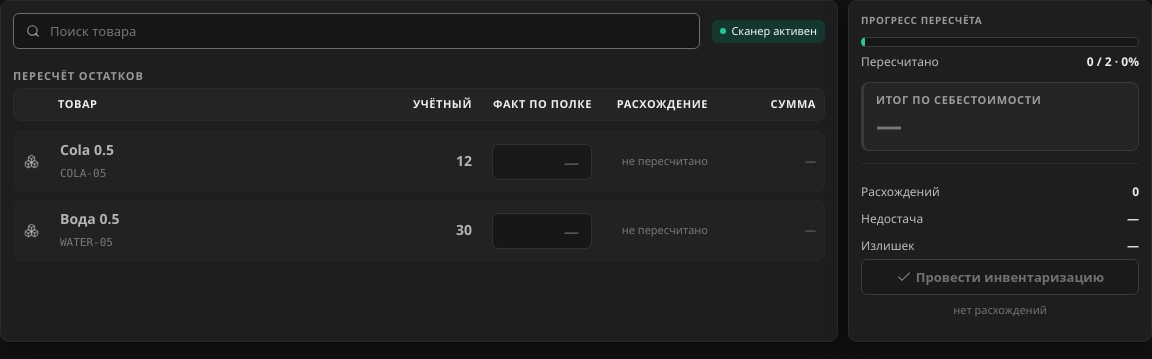
Test: InventoryWorkspace › ввод факта считает расхождение; кнопка «Провести» включается
The width and height of the screenshot is (1152, 359).
Check: the text "Cola 0.5" is shown, box [60,141,114,160]
Type "10" into the field with placeholder "—" in the row of "Cola 0.5". click: (542, 162)
box: [503,150,581,172]
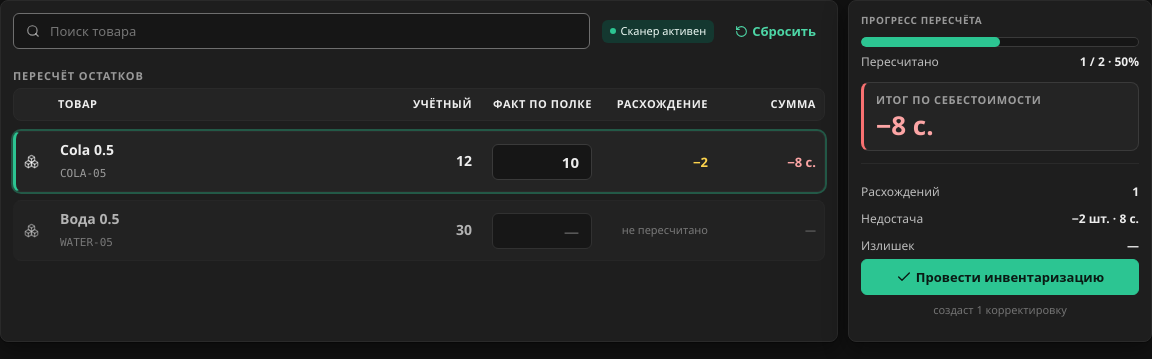
Check: the text "−2" is shown, box [693,152,708,170]
Check: the button "Провести инвентаризацию" is enabled, box [861,259,1139,295]
